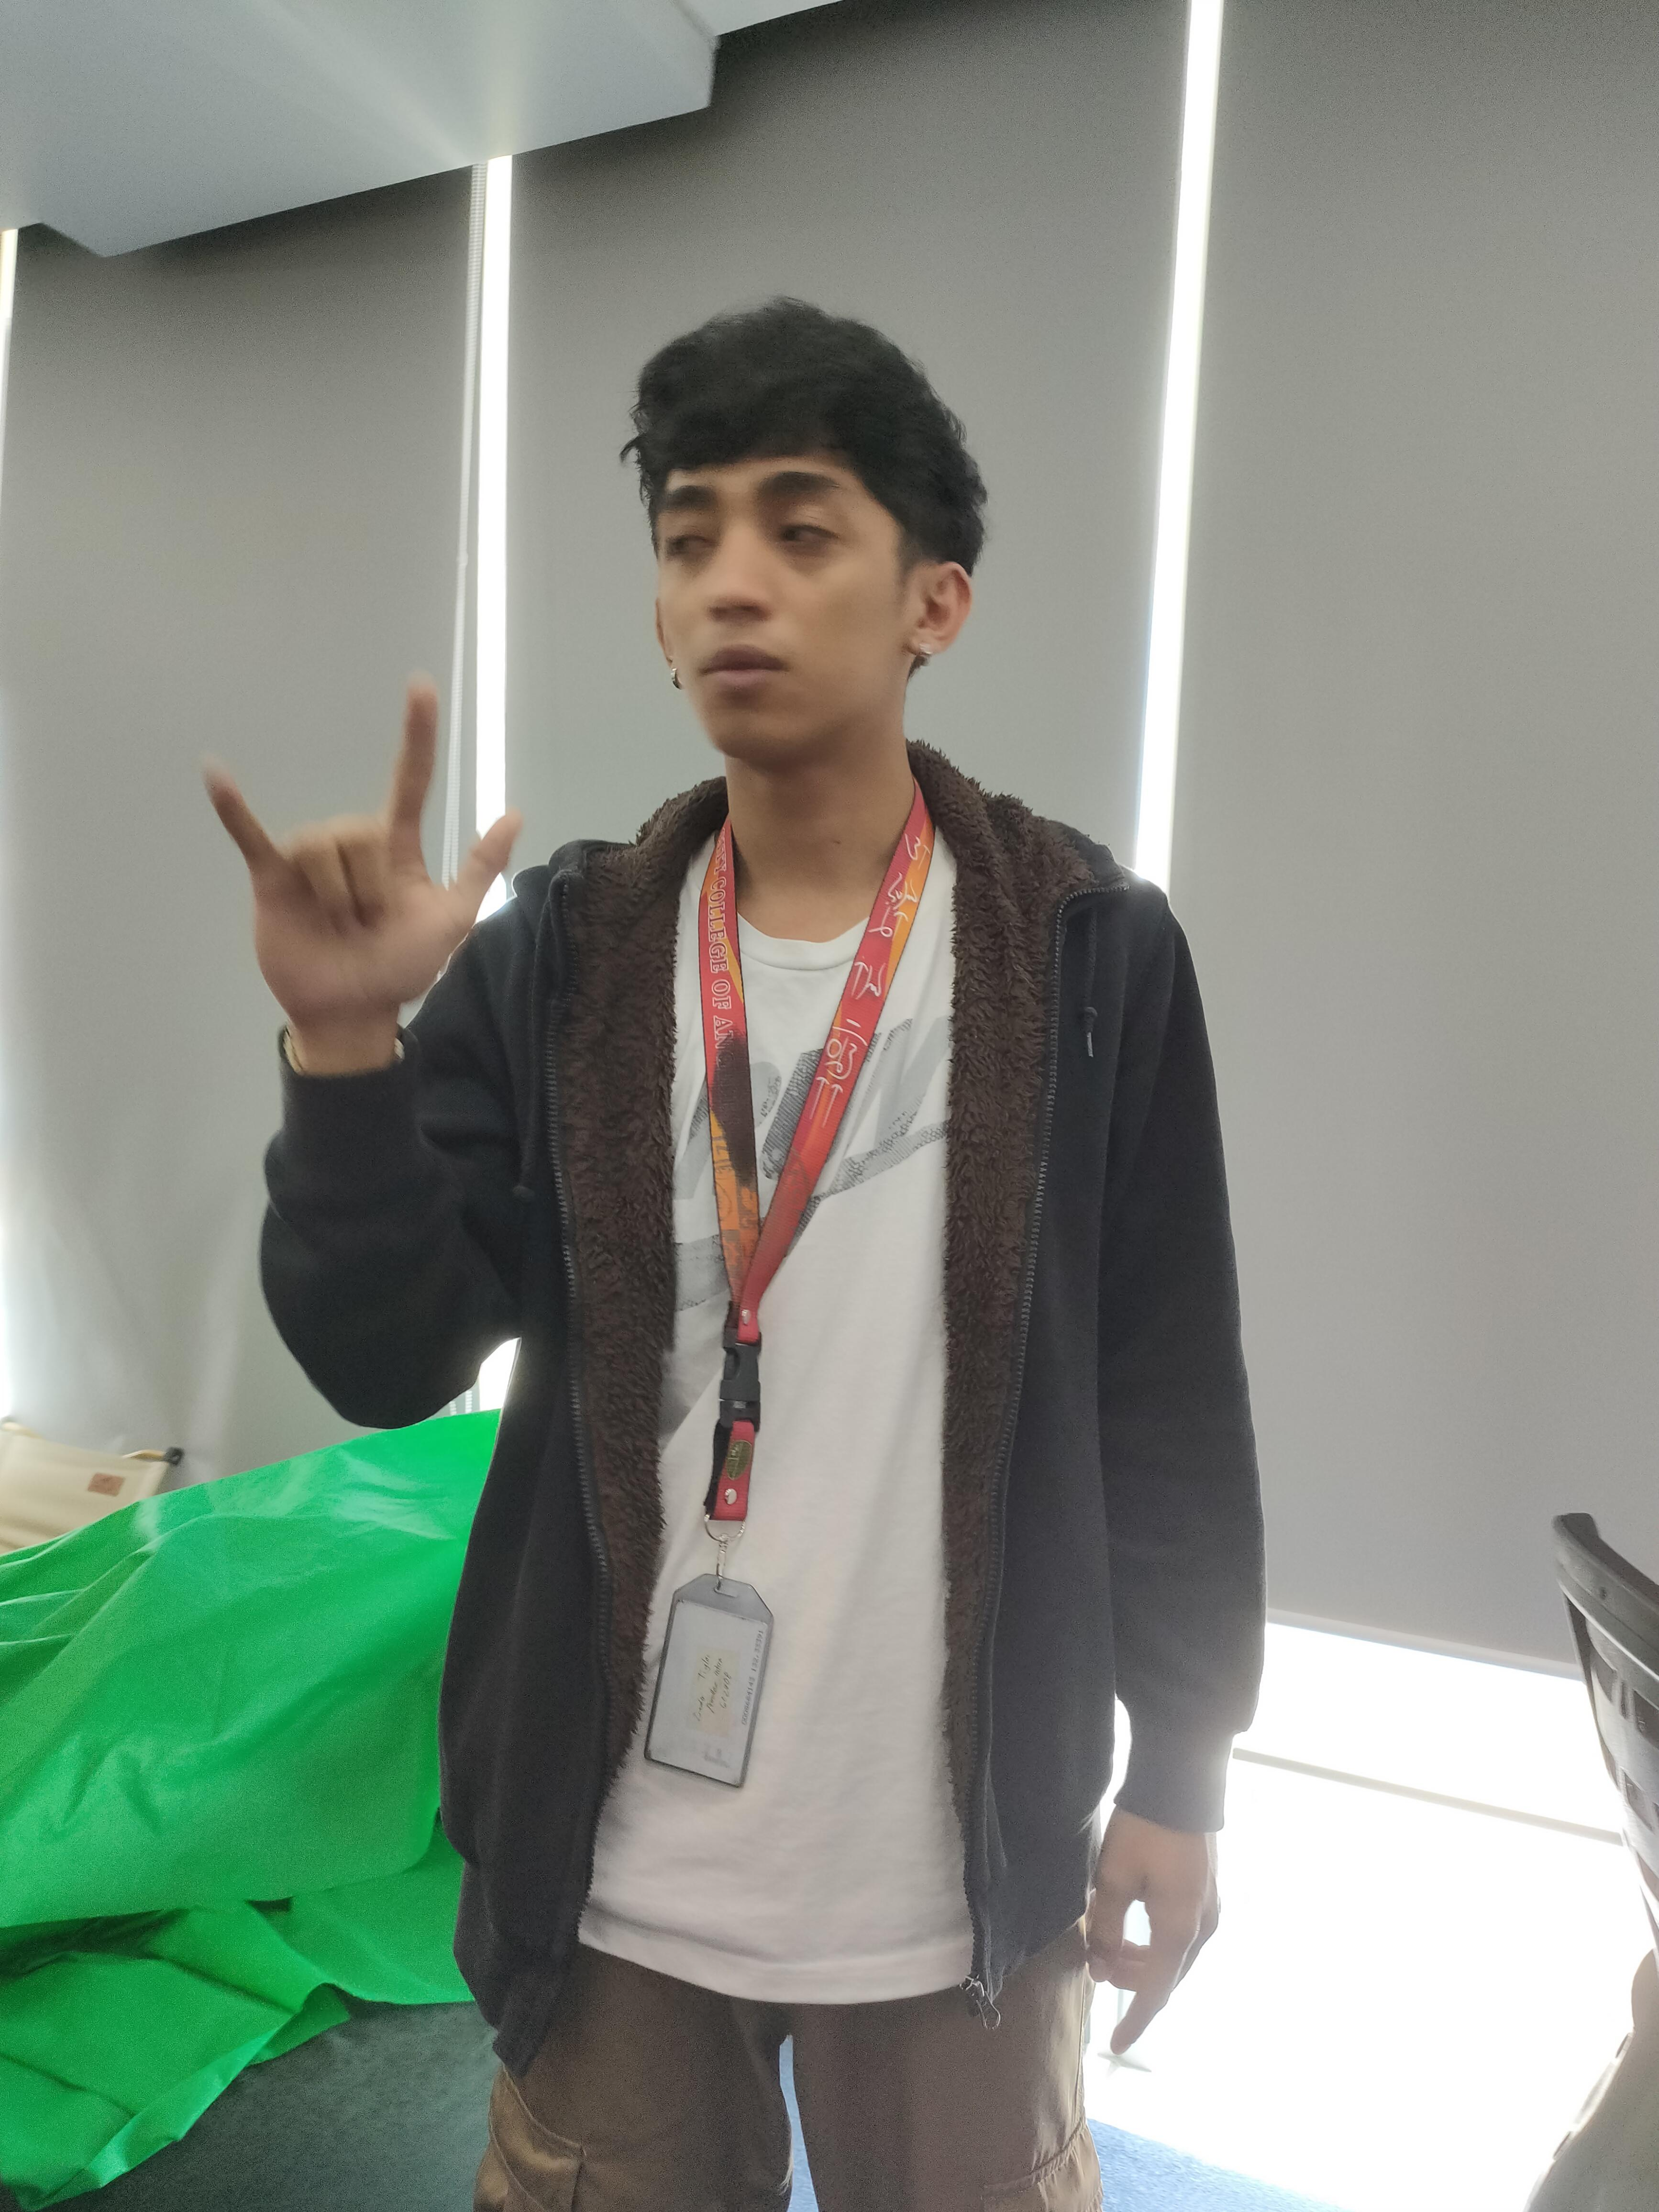Love_you: (186, 678, 528, 1001)
